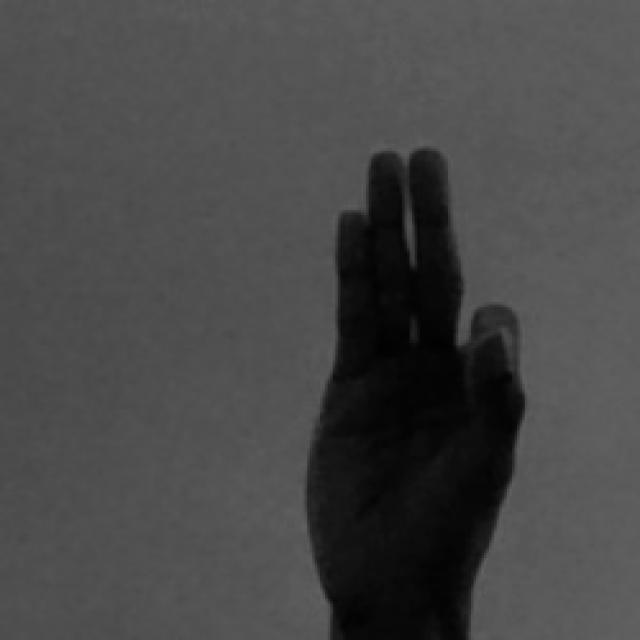F: (304, 141, 532, 640)
